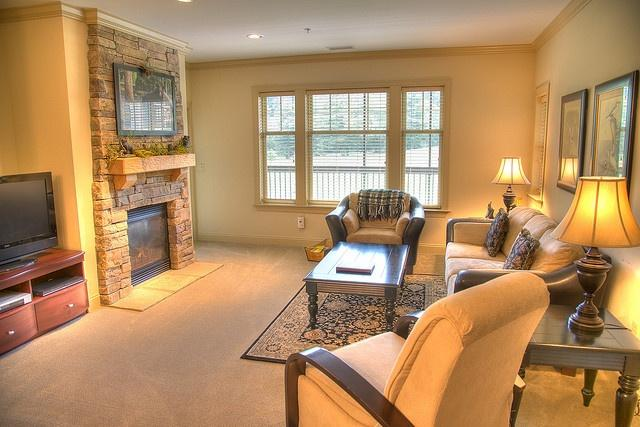AIO PC-Monitor-TV: (0, 169, 58, 272)
Meja: (301, 240, 409, 334)
